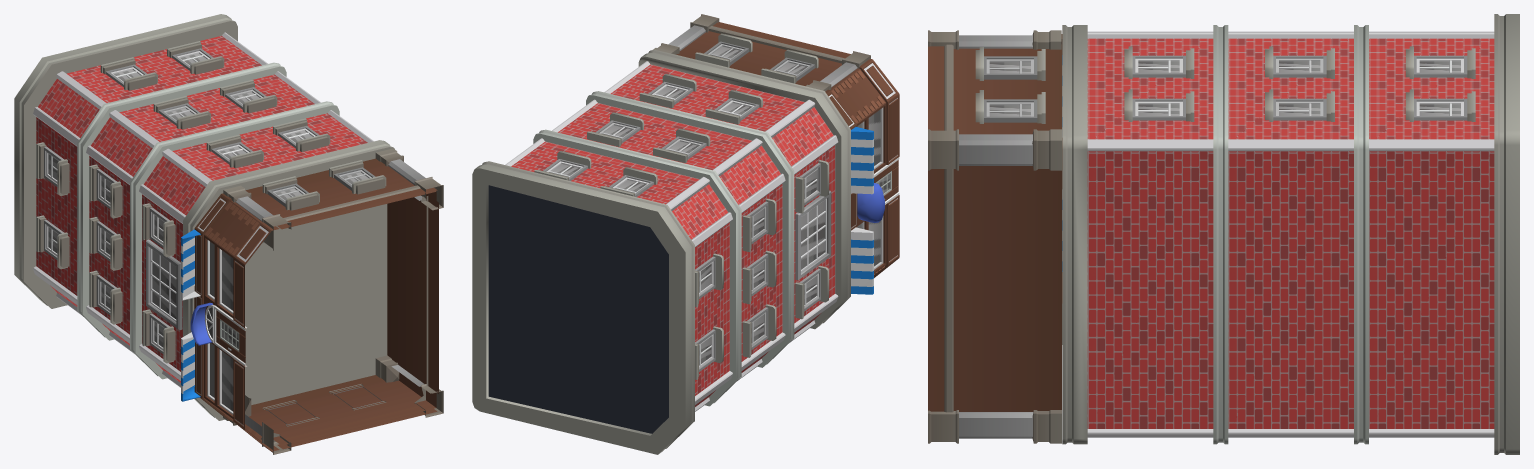
File: Building_3_3_E.glb
The picture shows the model from 3 angles, left to right: view 1: azimuth 30°, elevation 25°; view 2: azimuth 150°, elevation 25°; view 3: azimuth 270°, elevation 25°; orthographic projection. The views are drawn at different scales.
Parts seen in each view (by area): view 1: Building 3_3_E; view 2: Building 3_3_E; view 3: Building 3_3_E.
Boxes of the visible parts, box(x1,y1,x2,y2) form: Building 3_3_E: box(14, 14, 443, 454); Building 3_3_E: box(472, 14, 899, 454); Building 3_3_E: box(928, 14, 1519, 454).
Bounding box in the file's own units: 8.08 × 8.37 × 13.83.
5 materials, 5 textured.
